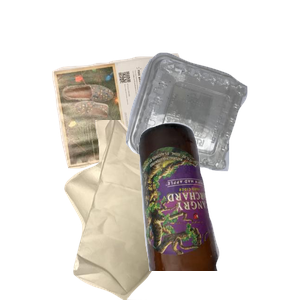glass: (136, 120, 300, 300)
paper: (49, 51, 235, 212)
plastic: (123, 50, 300, 214)
trash: (62, 120, 251, 300)
